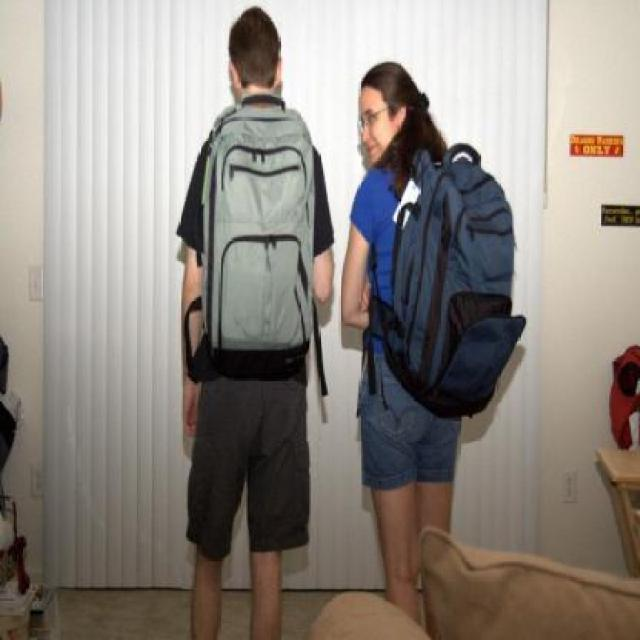backpack: (390, 142, 528, 423), (197, 89, 317, 369)
